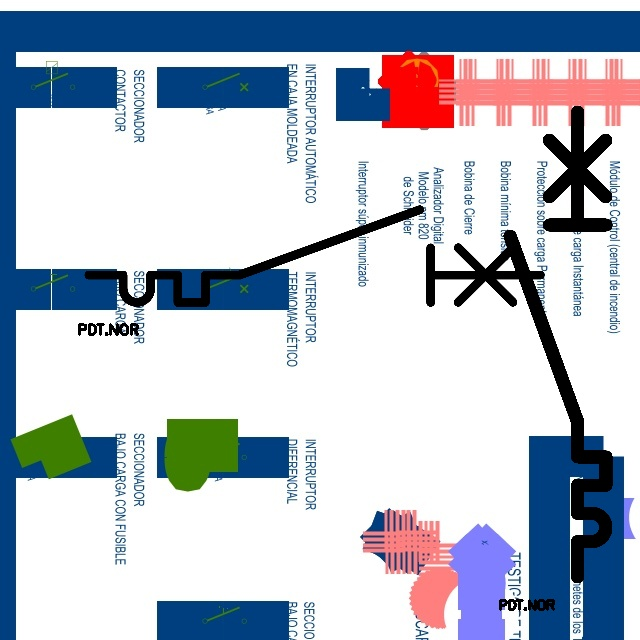interruptor_termomagnetico: (498, 100, 618, 589), (77, 198, 552, 314)
